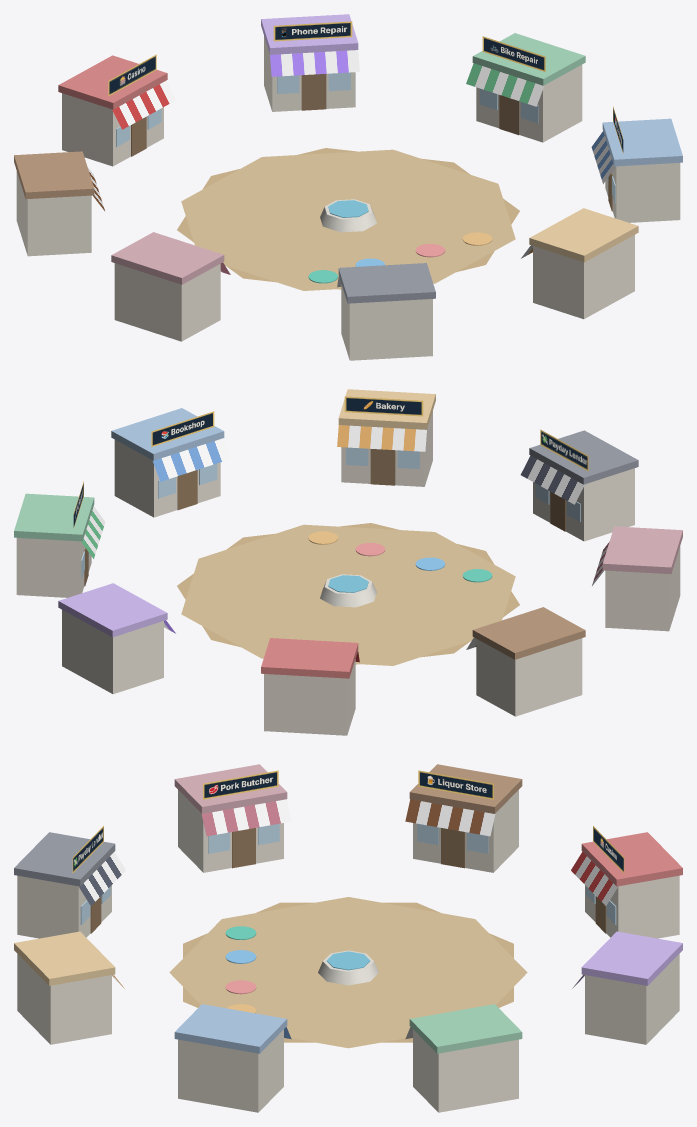
The model's file is market.glb.
3 renders of one model, top to bottom at view 1: azimuth 30°, elevation 25°; view 2: azimuth 150°, elevation 25°; view 3: azimuth 270°, elevation 25°, orthographic. The views are drawn at different scales.
Size of the model in its own units: 0.6 by 0.0849 by 0.6.
64 materials, 16 textured.
